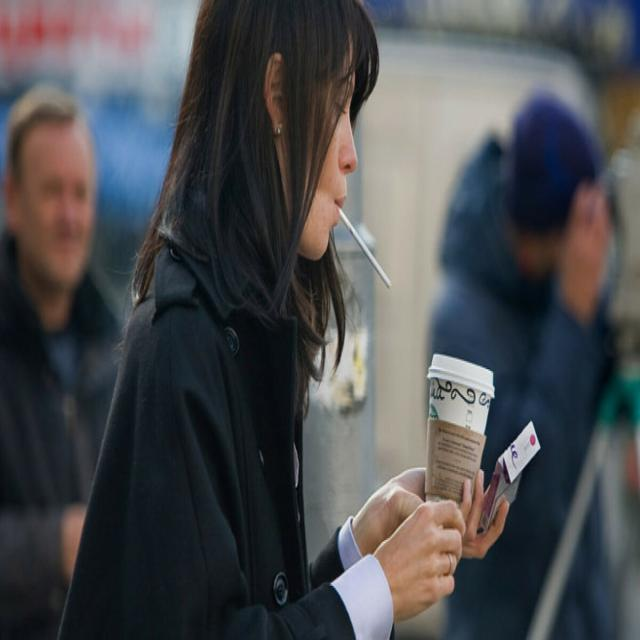cigarette: (331, 195, 394, 292)
